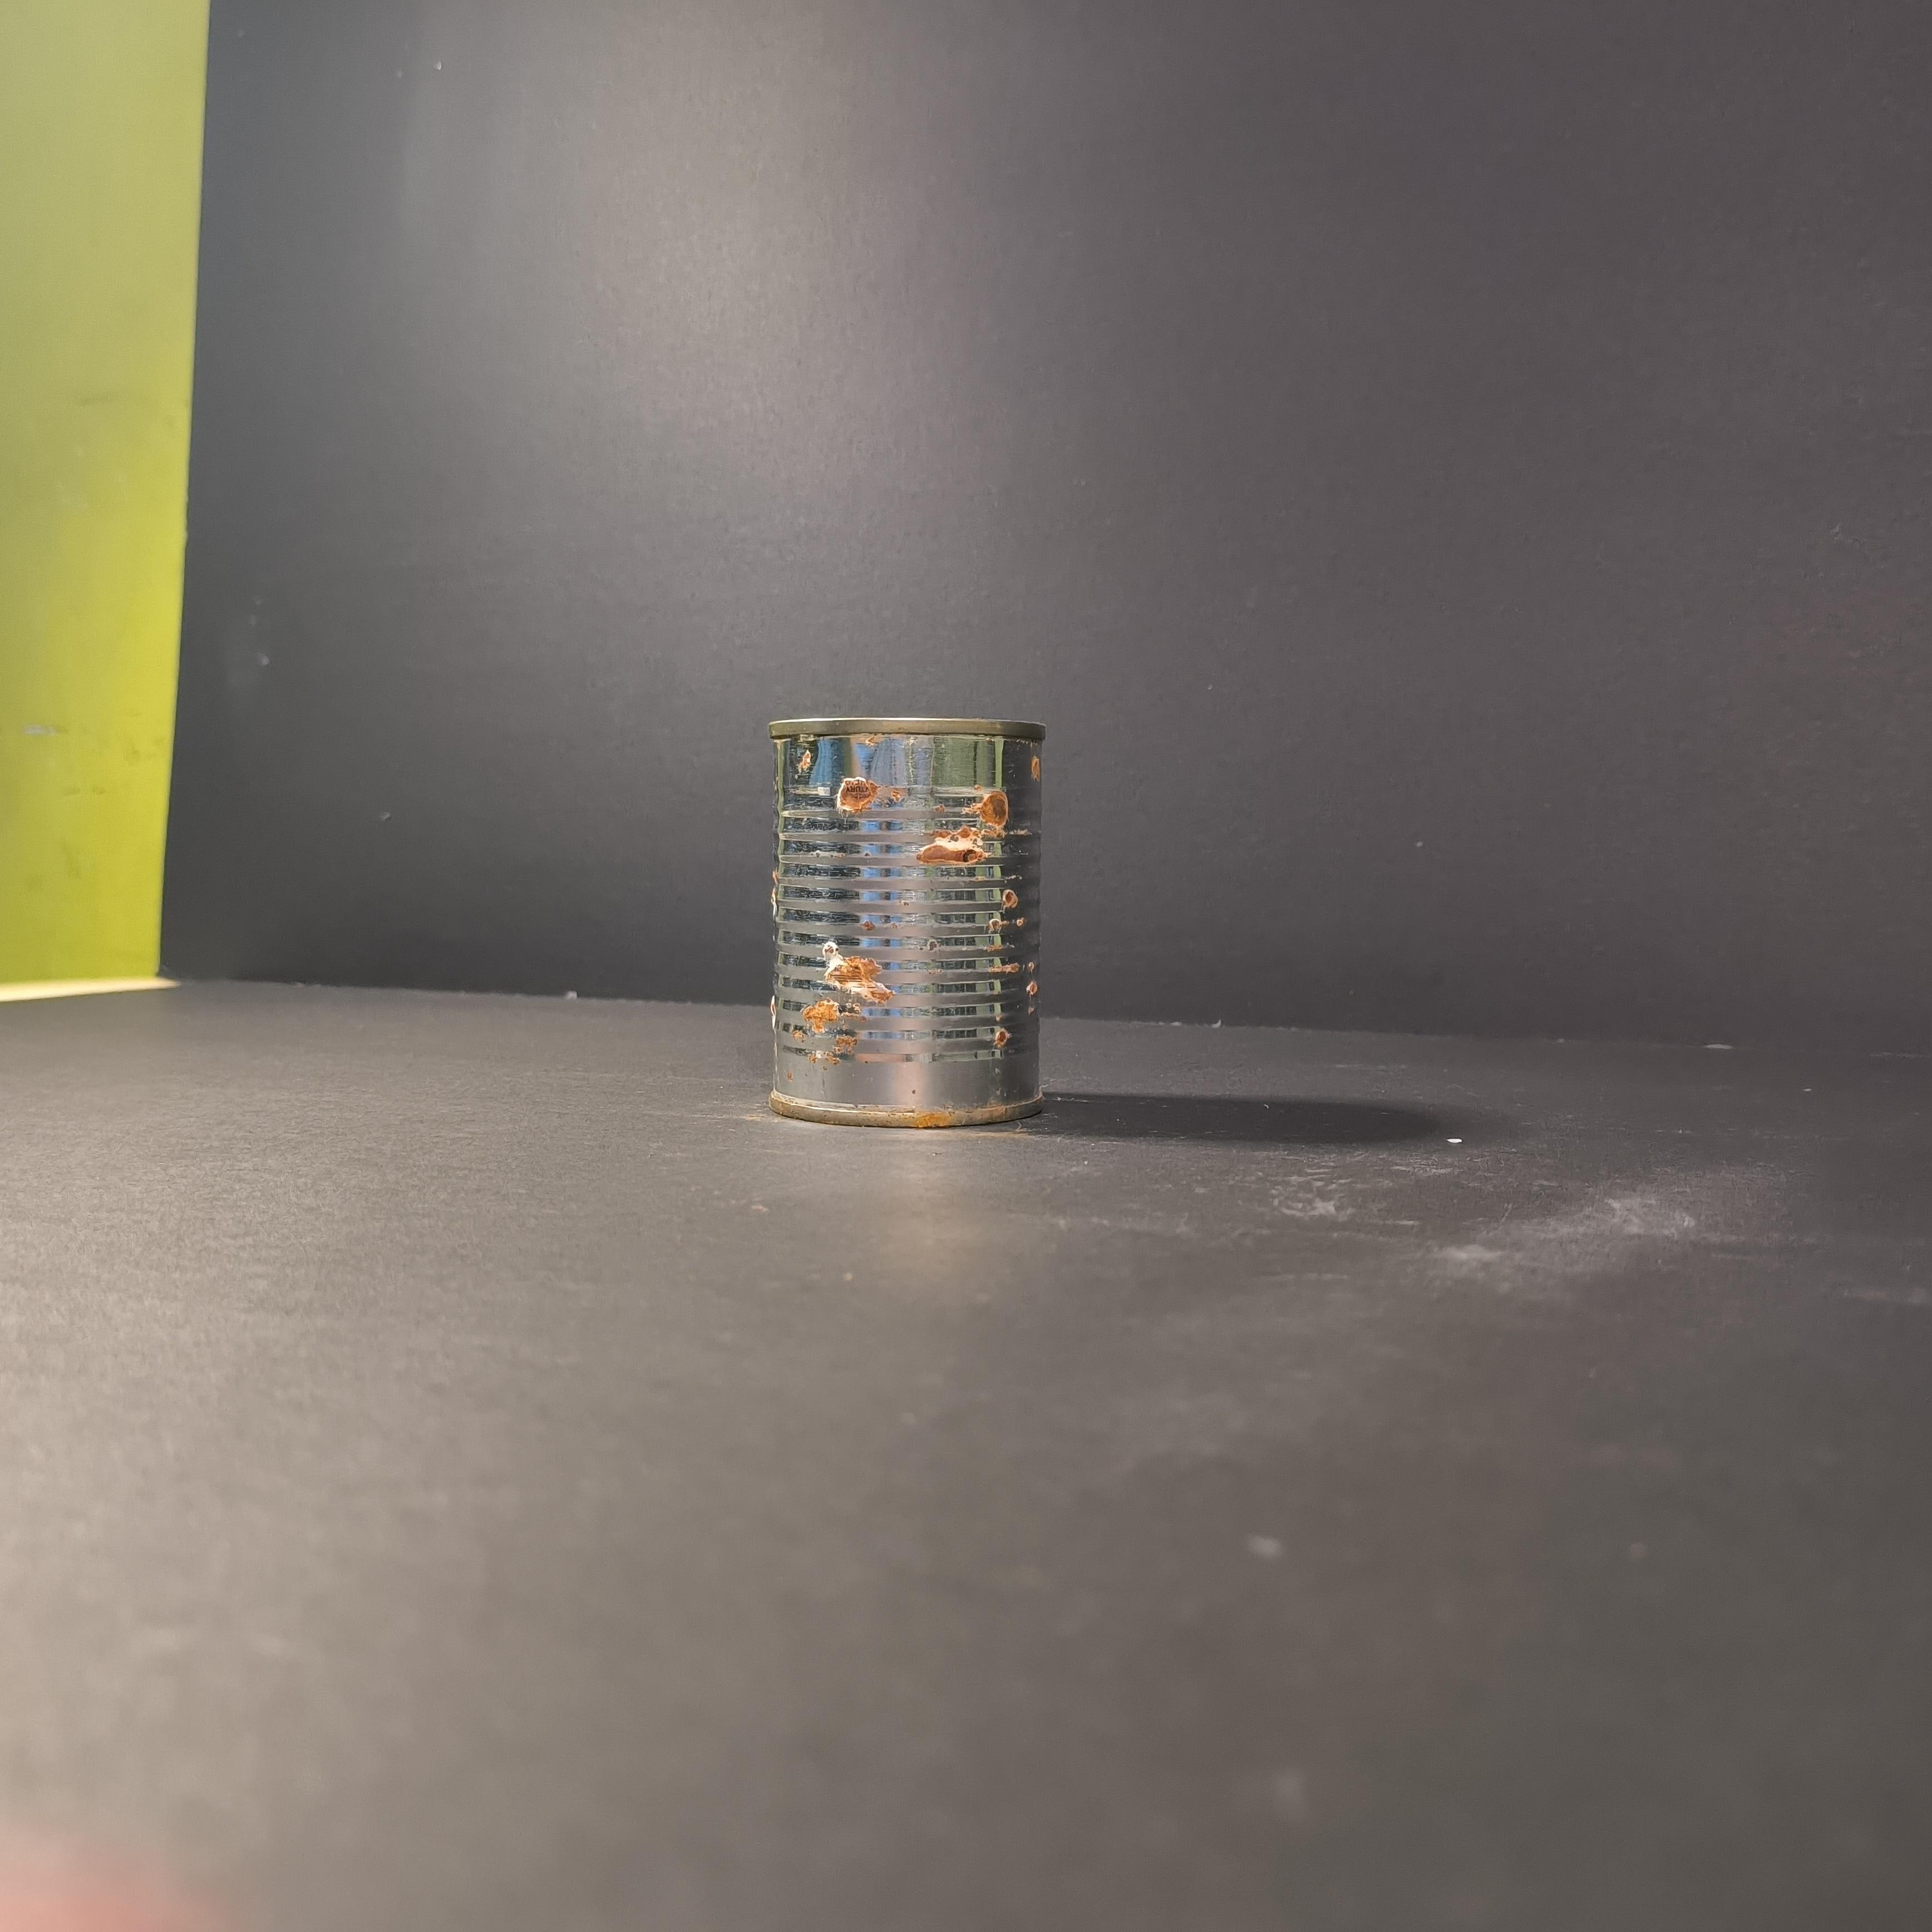Rusted: (754, 679, 1063, 1152)
